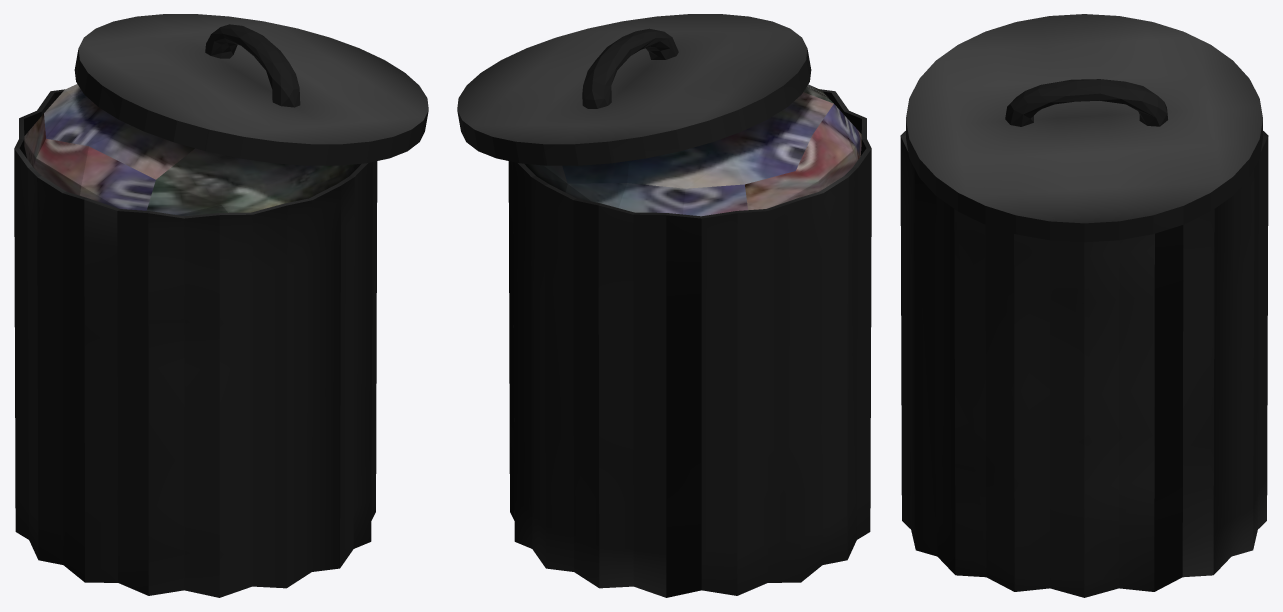
The model's file is money-bin.dae.
3 renders of one model, left to right at view 1: azimuth 30°, elevation 25°; view 2: azimuth 150°, elevation 25°; view 3: azimuth 270°, elevation 25°, orthographic.
Visible parts, largest first — view 1: Cylinder; view 2: Cylinder; view 3: Cylinder.
Part boxes in pixels (<box>): Cylinder: <box>14,14,428,597</box>; Cylinder: <box>457,14,871,597</box>; Cylinder: <box>900,14,1268,597</box>.
Size of the model in its own units: 0.171 by 0.1475 by 0.2081.
Materials: 1 (1 with a texture image).
